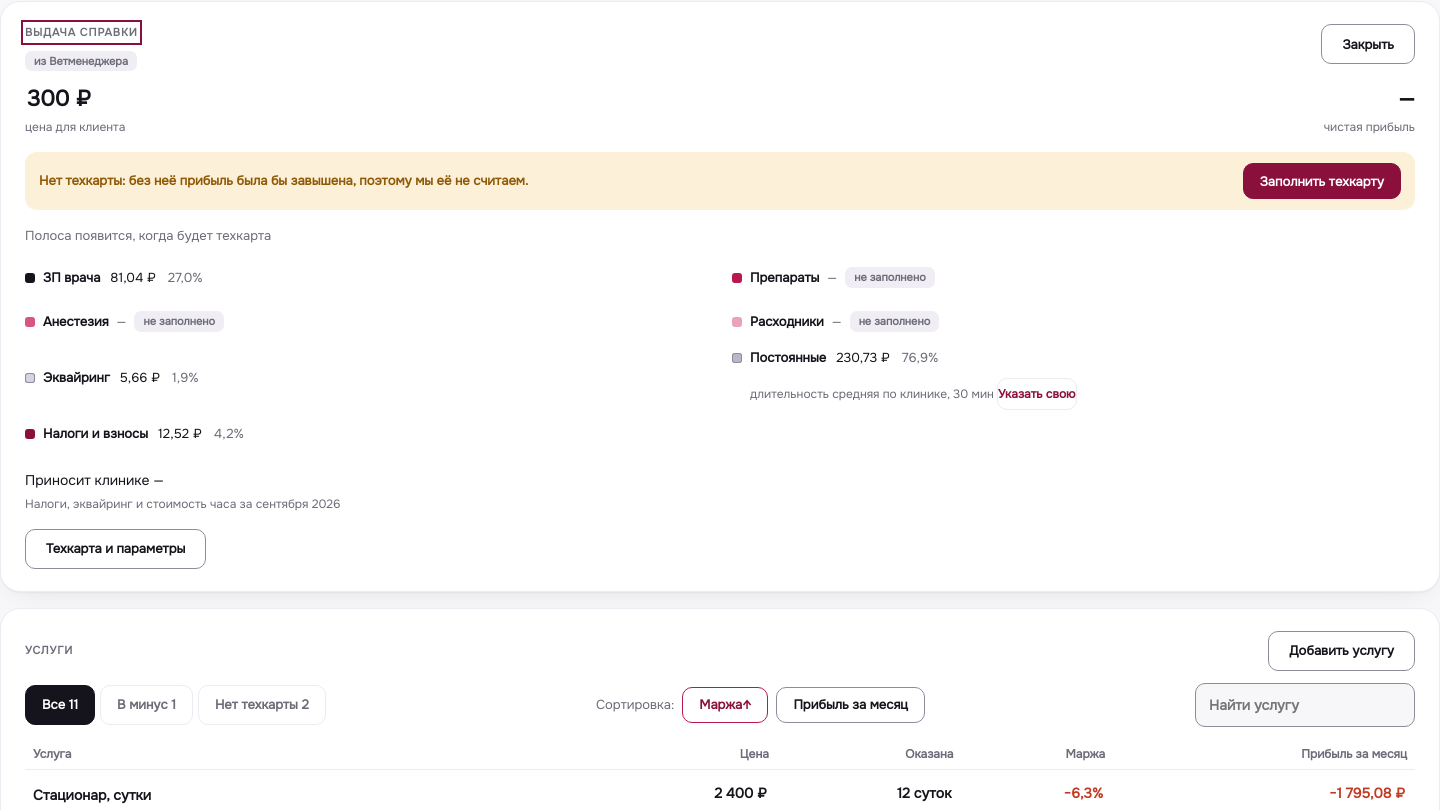
Test: PricePage: the card › names the mistake of the recipe form without a request
This screenshot has width=1440, height=810.
(page scrolled)
Click the button with test id "price-card-edit".
click(116, 549)  # box [25,529,206,569]
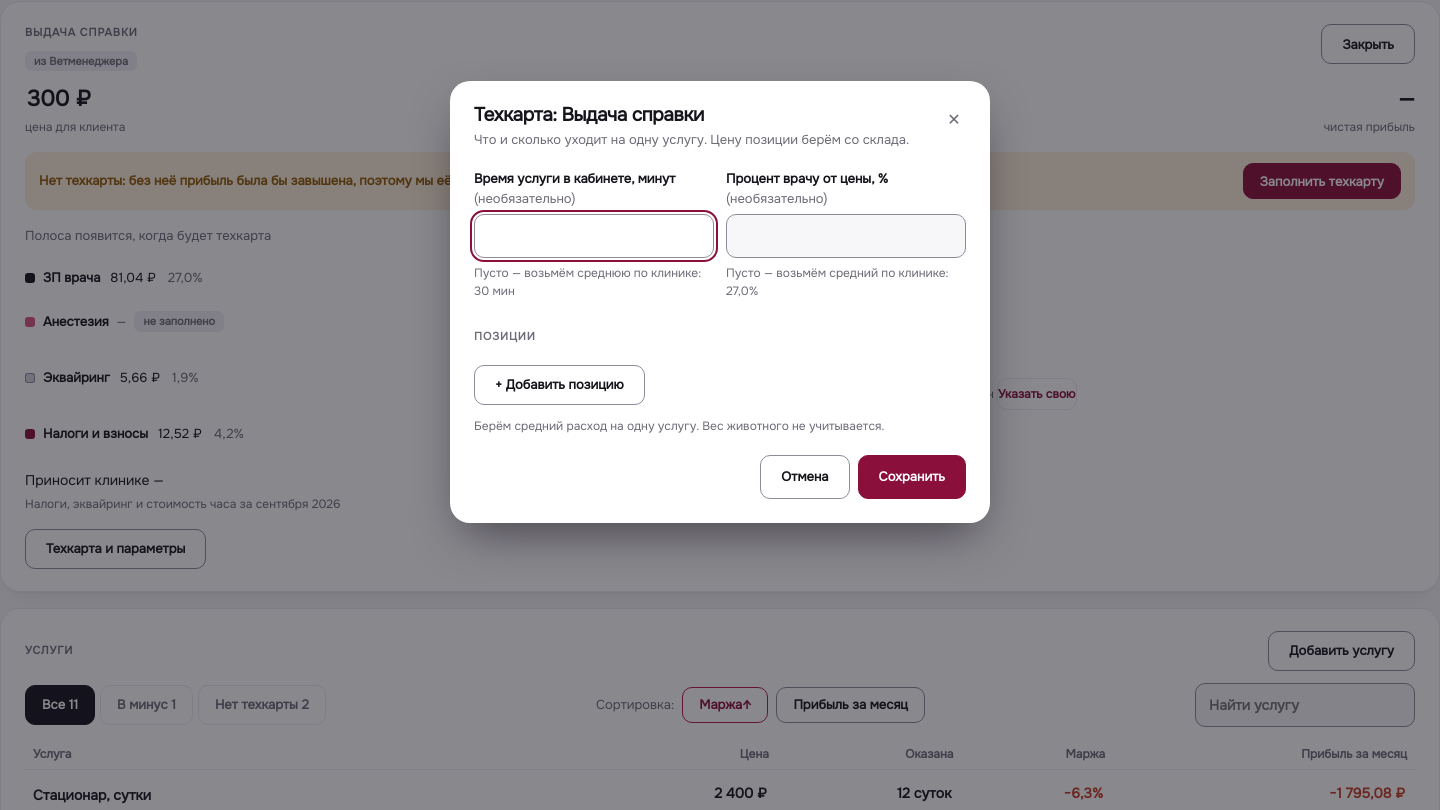
Type "2000" into the field with test id "price-recipe-field-minutes".
click(594, 236); type("2000")  # box [474,214,714,258]
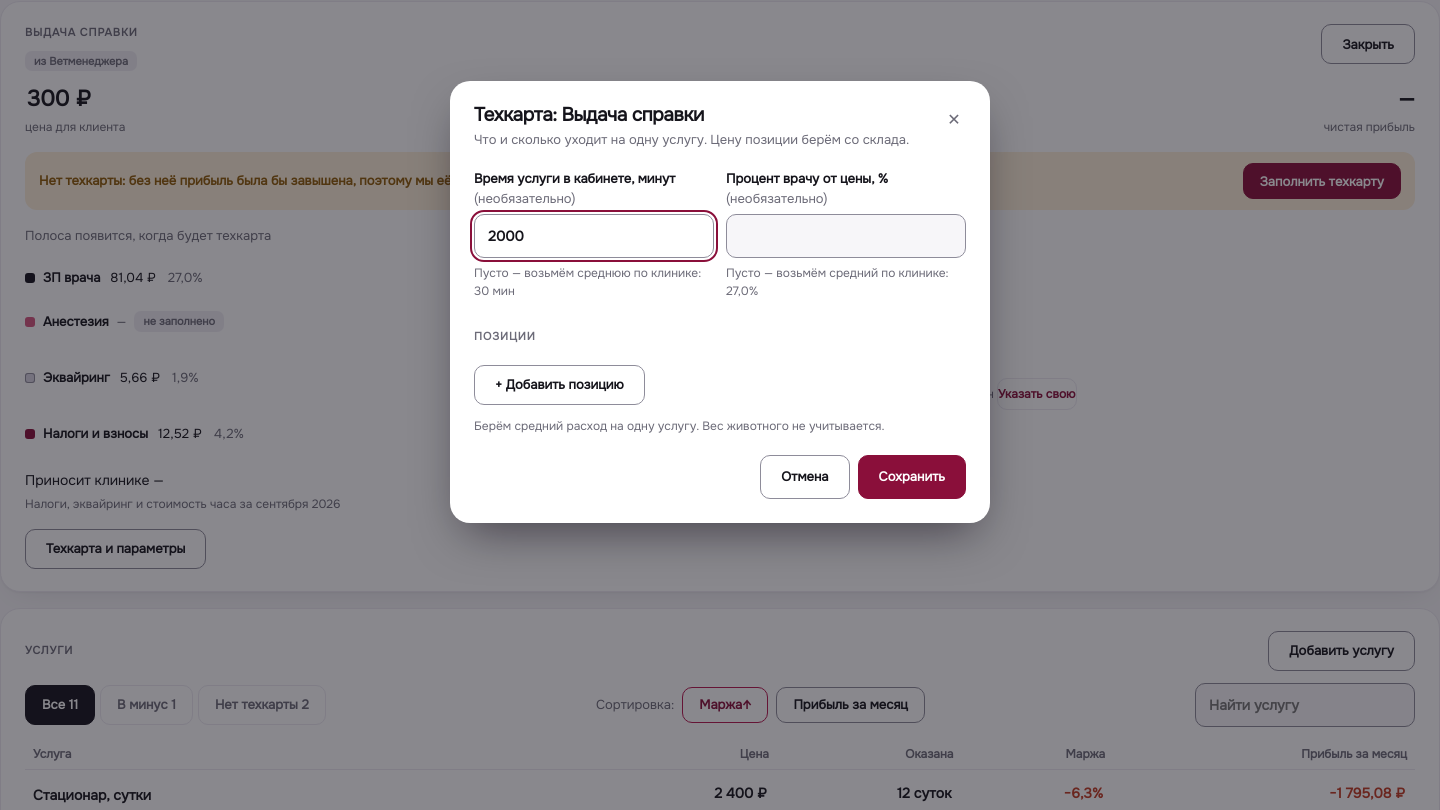
Click the button with test id "price-recipe-save".
click(912, 477)  # box [858,455,966,499]
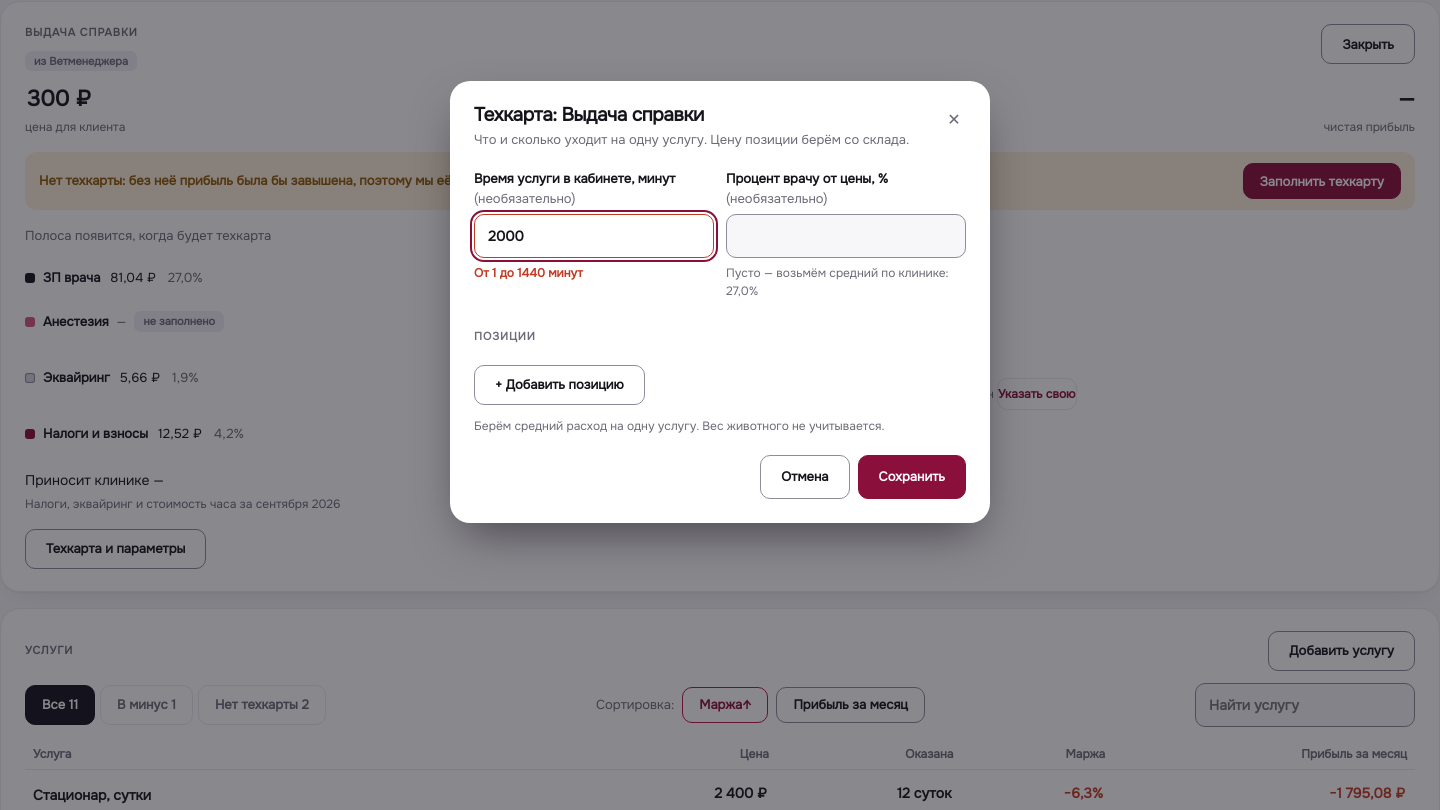
Check: the text with test id "price-recipe-field-minutes-error" reads "От 1 до 1440 минут", box [474,265,583,281]
